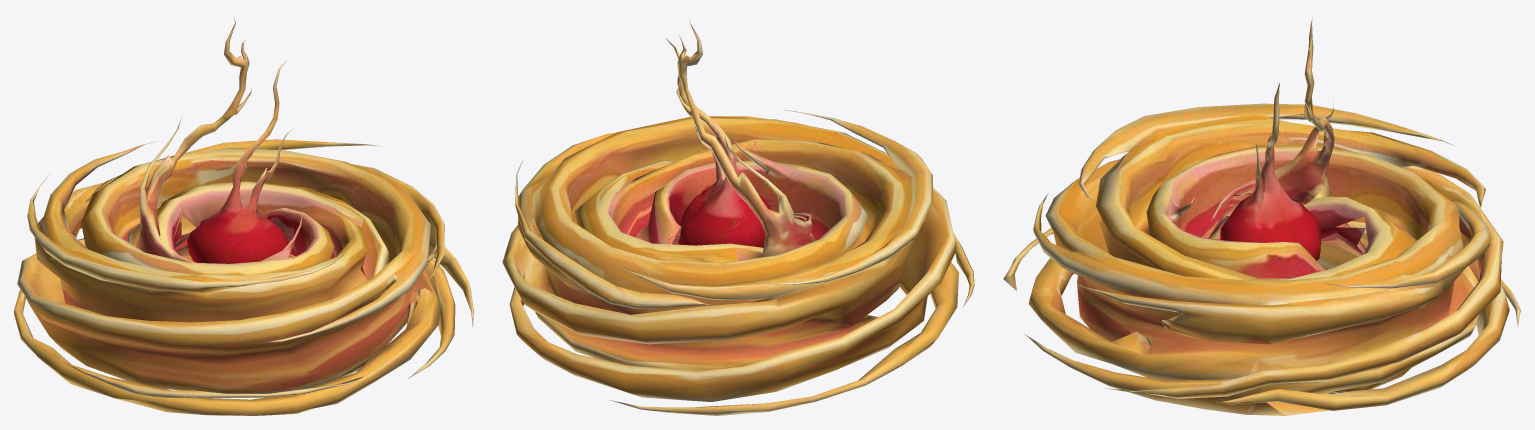
Rendered from gorgo.glb.
3 views of the same model, side by side, from view 1: azimuth 30°, elevation 25°; view 2: azimuth 150°, elevation 25°; view 3: azimuth 270°, elevation 25° (orthographic). The views are drawn at different scales.
Size of the model in its own units: 0.9189 by 0.6997 by 0.9565.
1 material, 1 textured.
